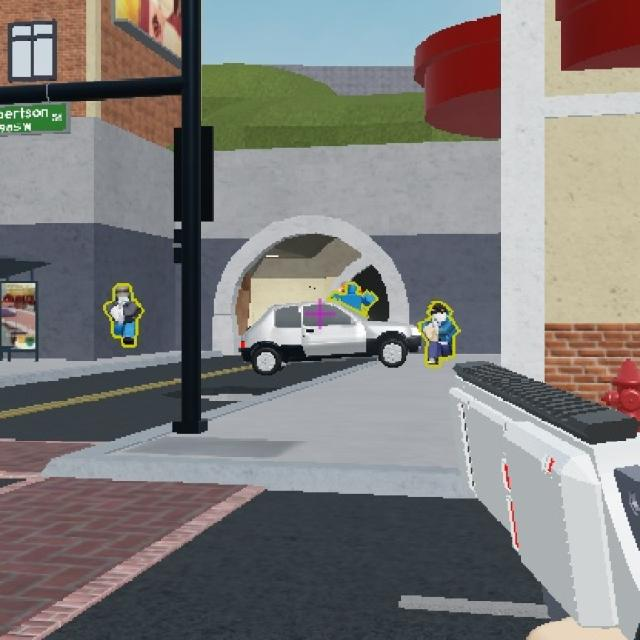player: (421, 294, 459, 364), (110, 282, 138, 344), (338, 278, 369, 308)
